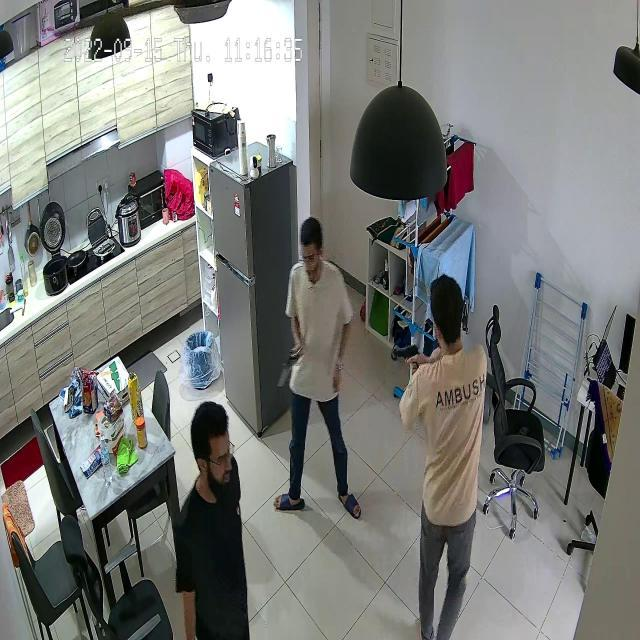Gun: (382, 333, 422, 375)
Knife: (262, 342, 310, 390)
